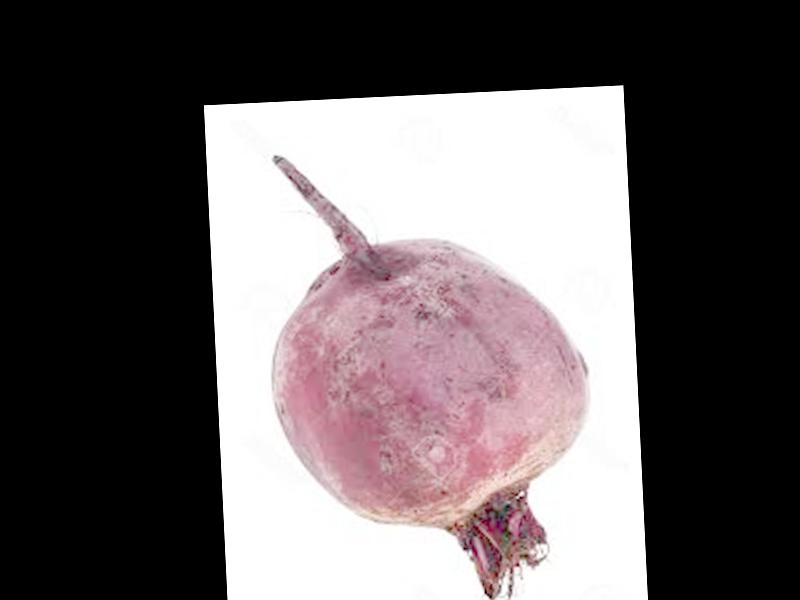Beet: (262, 146, 595, 600)
